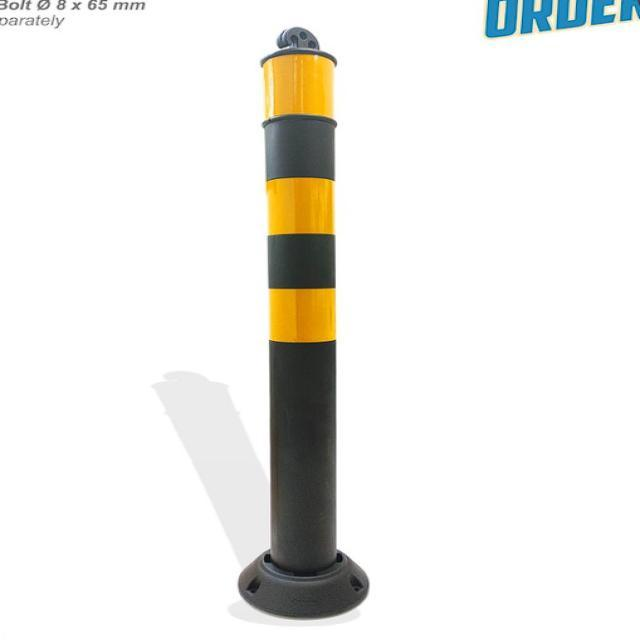Bollard: (252, 22, 346, 582)
